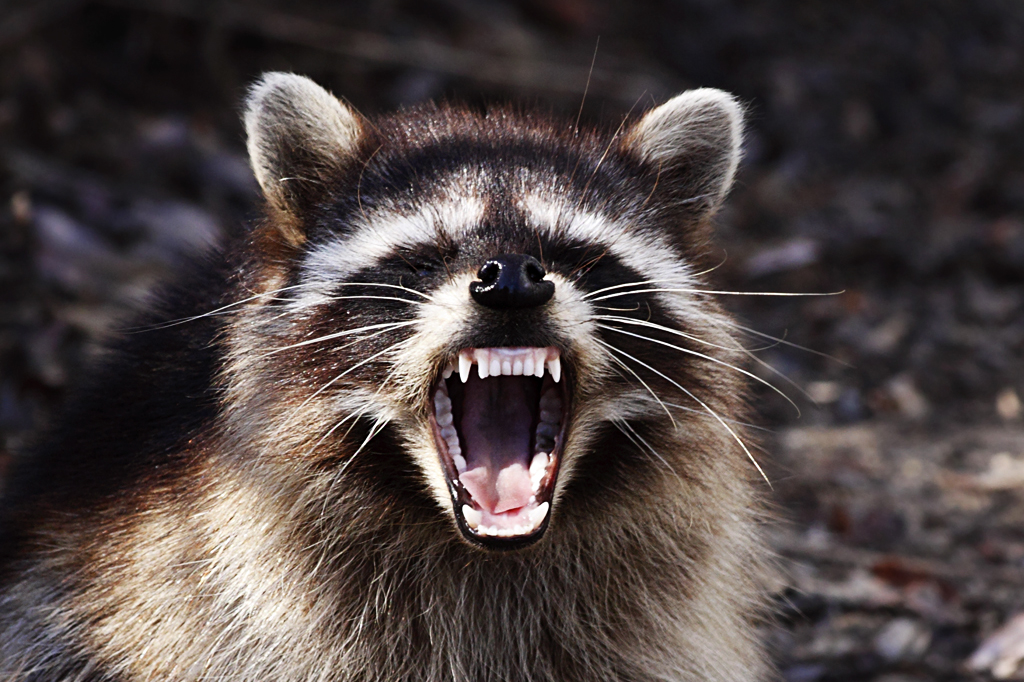raccoon: (161, 48, 786, 682)
